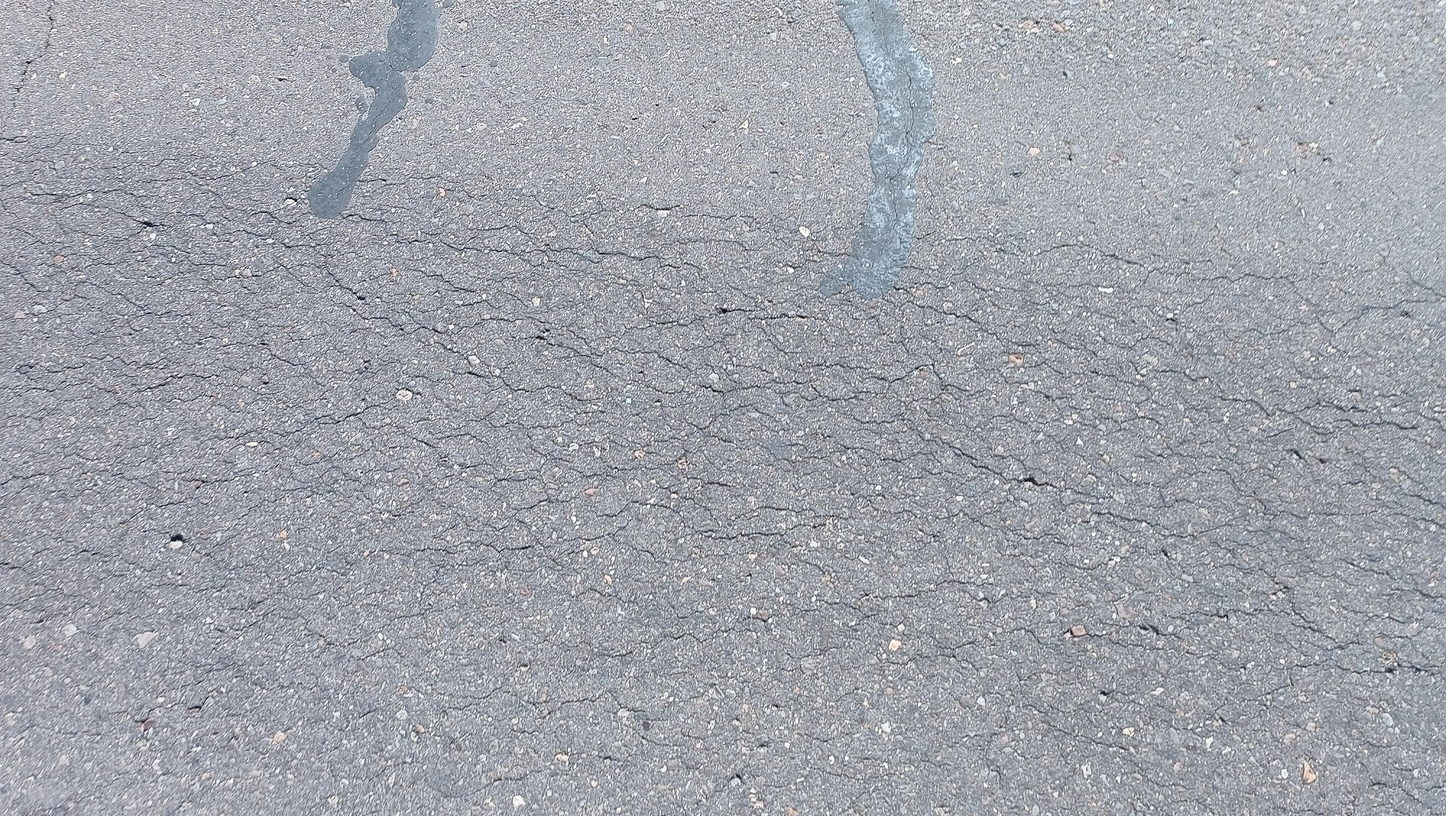GRIETA: (5, 7, 54, 124)
PIEL DE COCODRILO: (0, 133, 1446, 816)
